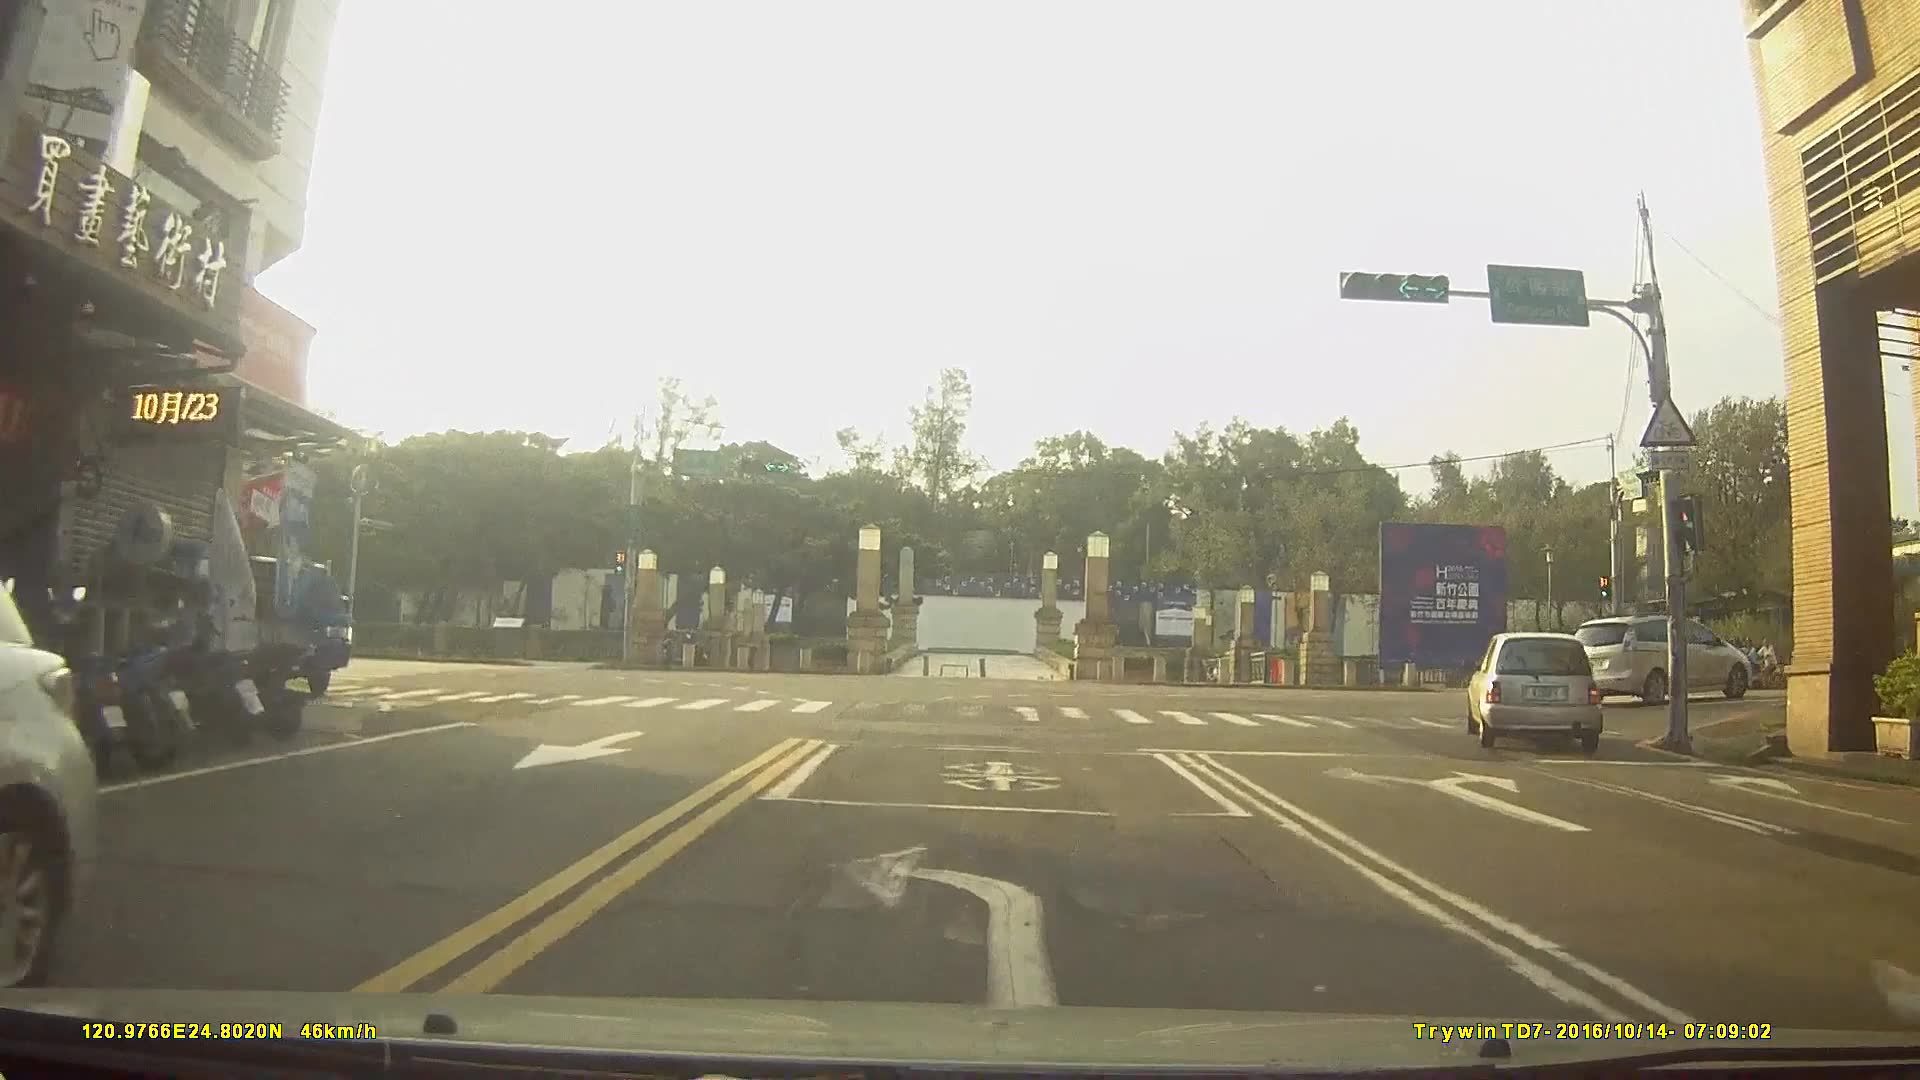vehicle: (222, 551, 352, 694), (1462, 630, 1605, 754), (1571, 611, 1750, 705)
